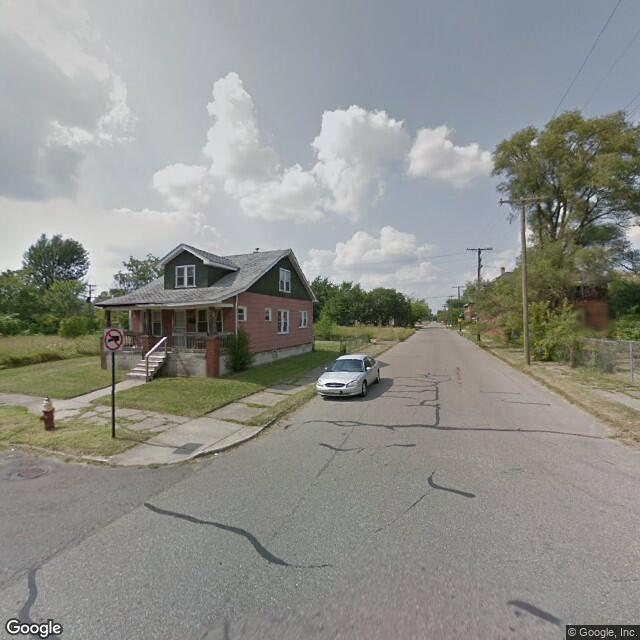litter: (9, 447, 17, 454), (213, 450, 219, 458)
